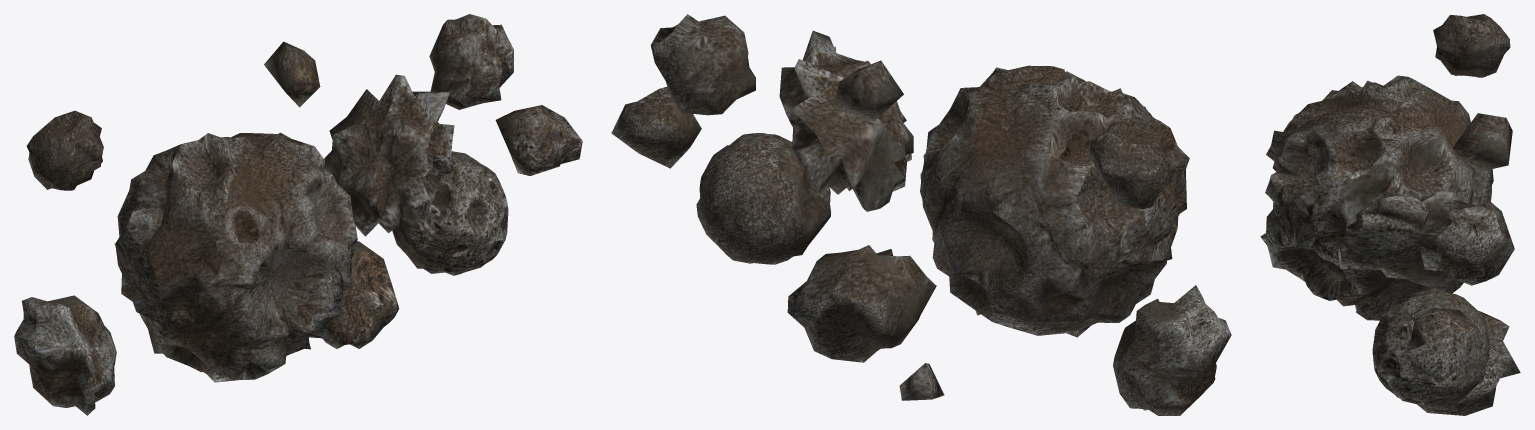
The model's file is Asteroides.glb.
3 views of the same model, side by side, from view 1: azimuth 30°, elevation 25°; view 2: azimuth 150°, elevation 25°; view 3: azimuth 270°, elevation 25° (orthographic). The views are drawn at different scales.
Parts seen in each view (by area): view 1: tripo_node_c36fe9f1-fea1-42a5-af3e-e74f2db4c27d; view 2: tripo_node_c36fe9f1-fea1-42a5-af3e-e74f2db4c27d; view 3: tripo_node_c36fe9f1-fea1-42a5-af3e-e74f2db4c27d.
Boxes of the visible parts, <box> form: tripo_node_c36fe9f1-fea1-42a5-af3e-e74f2db4c27d: <box>14,14,582,415</box>; tripo_node_c36fe9f1-fea1-42a5-af3e-e74f2db4c27d: <box>611,14,1231,415</box>; tripo_node_c36fe9f1-fea1-42a5-af3e-e74f2db4c27d: <box>1260,14,1520,415</box>.
Size of the model in its own units: 0.9395 by 0.477 by 0.3918.
1 material, 1 textured.
